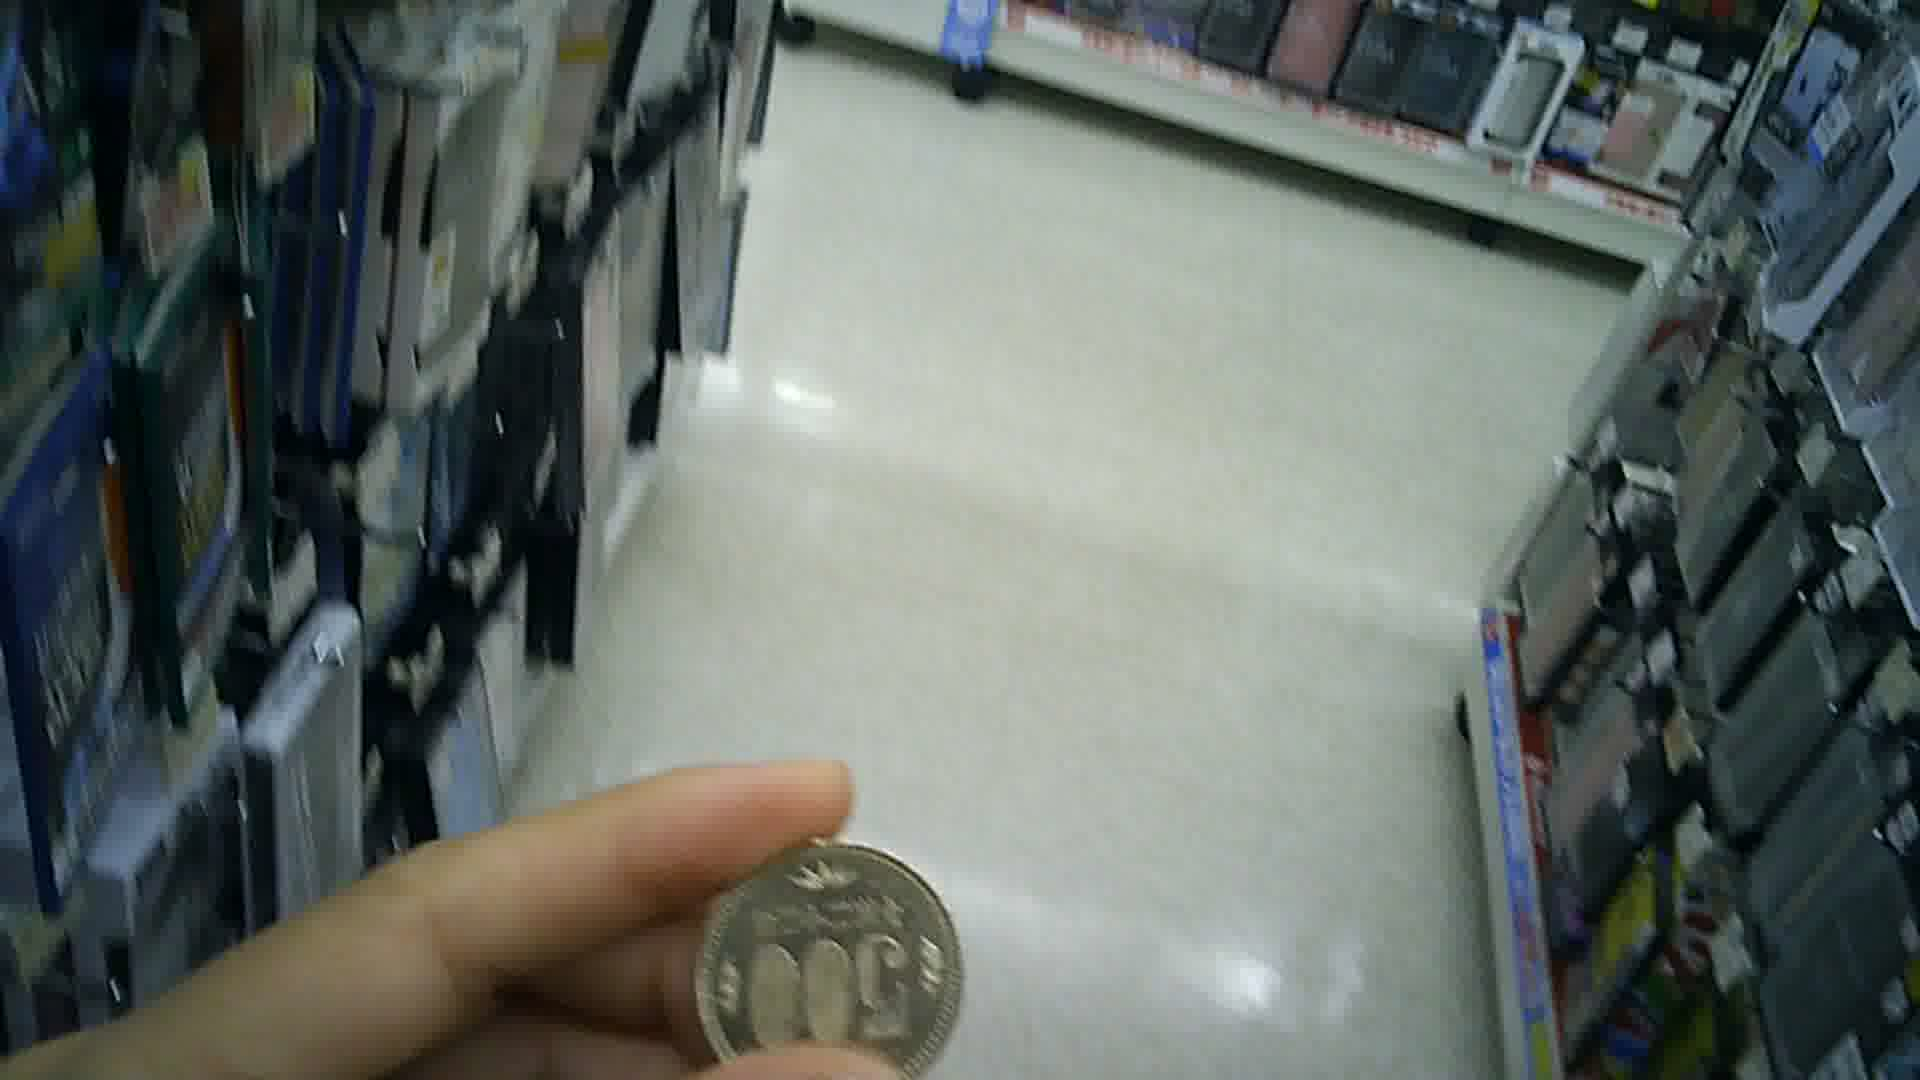500 Yen: (690, 827, 971, 1079)
